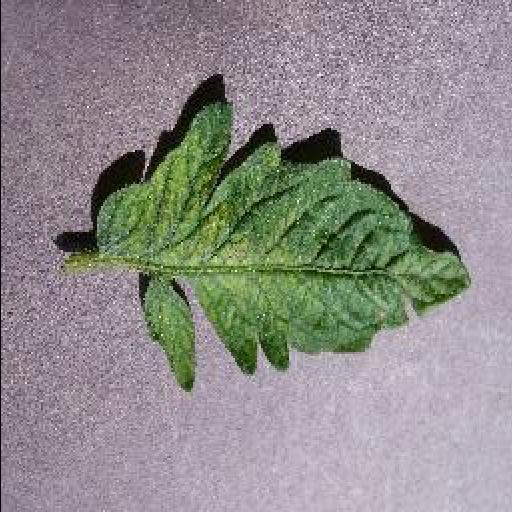disease_tomato: (91, 92, 473, 392)
